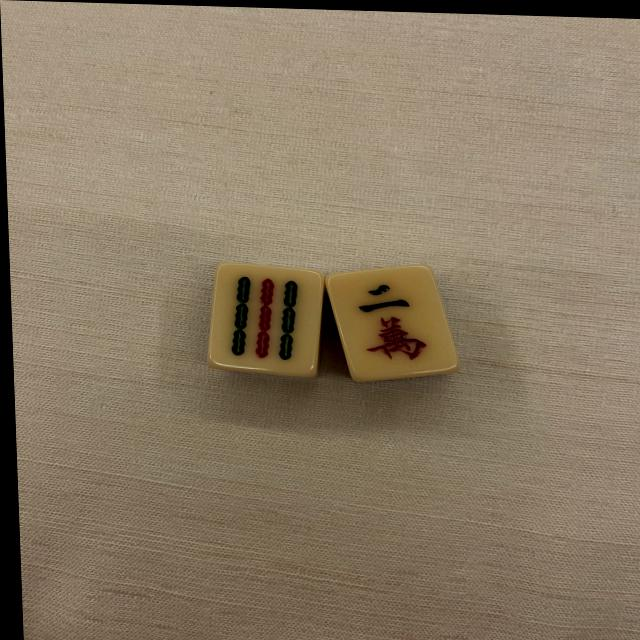2C: (327, 263, 458, 385)
9B: (205, 268, 322, 377)
